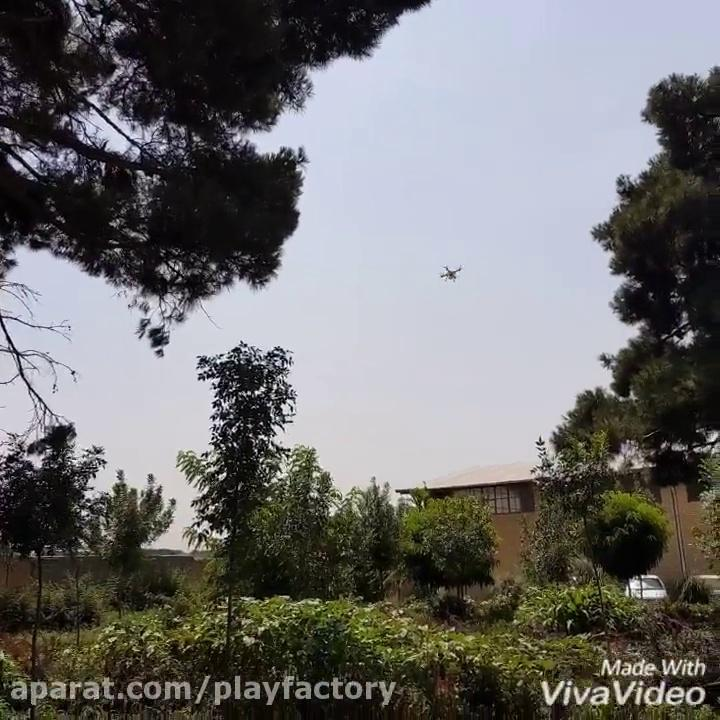drone: (434, 259, 465, 286)
